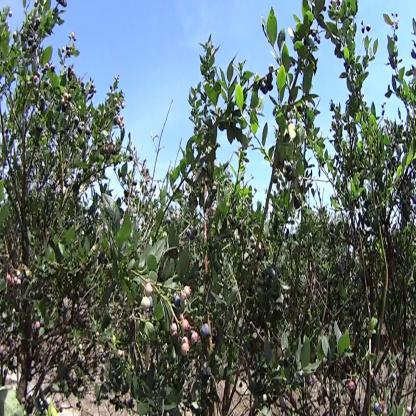intermediate: (347, 378, 359, 398), (181, 320, 190, 334), (191, 333, 199, 348)
mature: (200, 323, 210, 338), (173, 296, 183, 310)
young: (139, 295, 153, 312), (181, 337, 191, 356), (144, 280, 154, 296), (169, 322, 179, 335), (183, 286, 192, 299)
